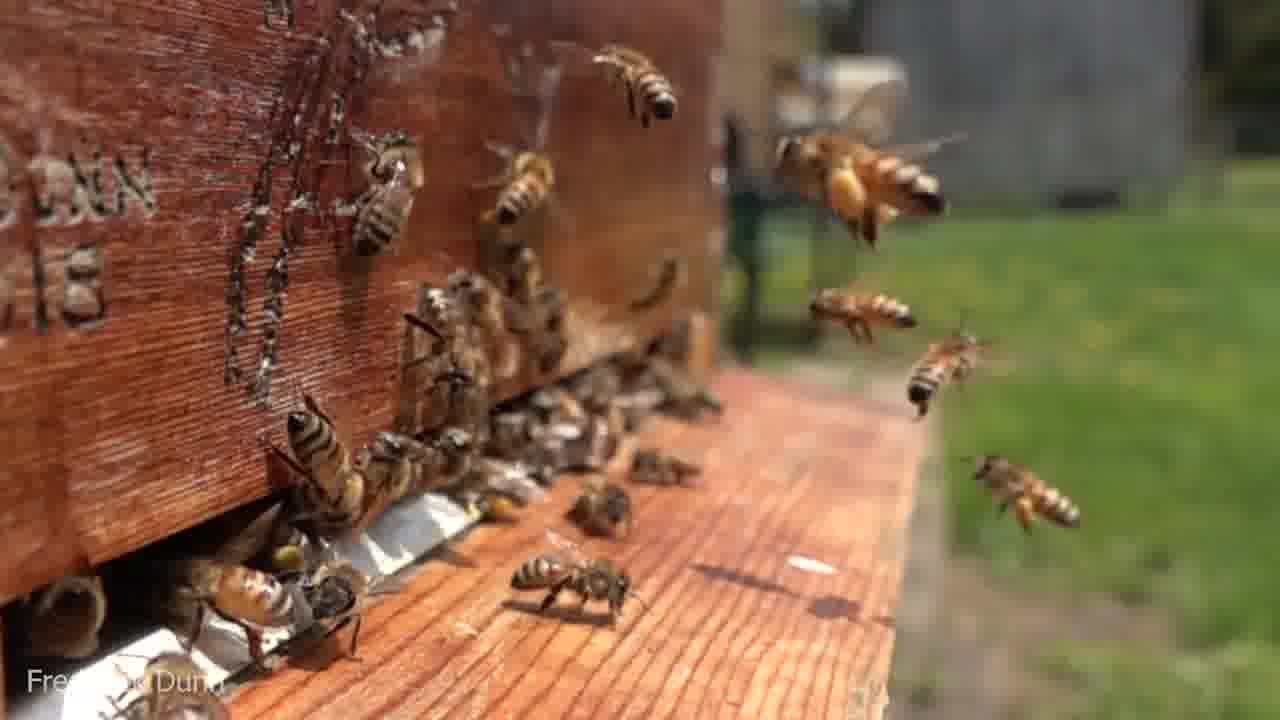pollen: (776, 126, 945, 237), (973, 452, 1075, 540)
